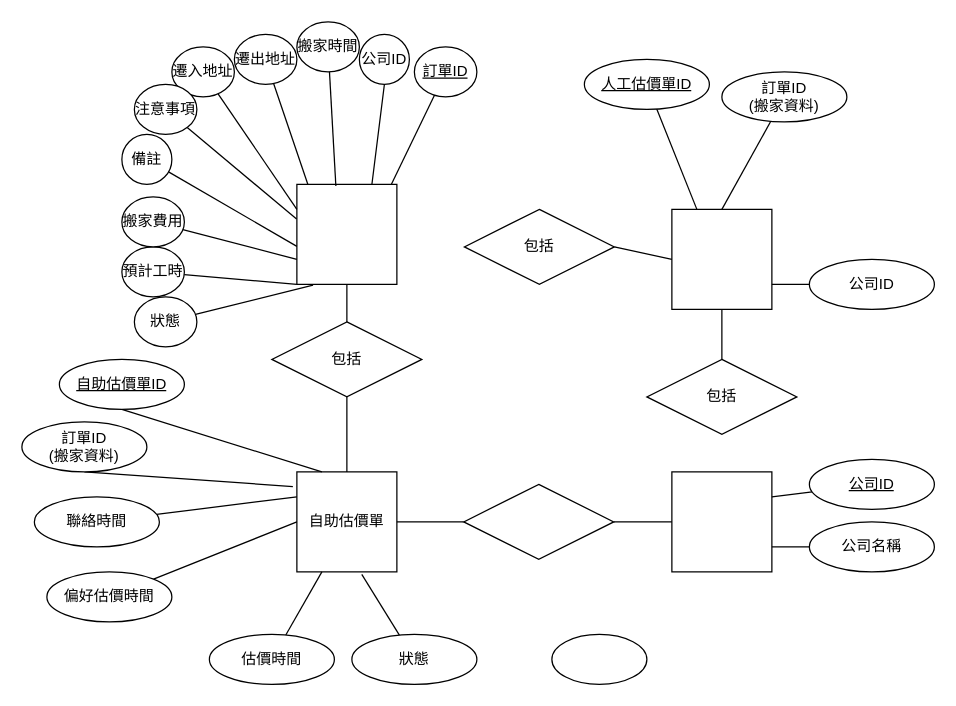
This 956x706 diagram has some shape labels left out. Each missing label, with the centre of its shape:
"人工估價單" belongs at (x=721, y=258).
"公司" belongs at (x=721, y=521).
"訂單" belongs at (x=346, y=233).
"選擇多家" belongs at (x=538, y=521).
"選擇與否" belongs at (x=599, y=658).
